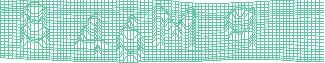4: (72, 12, 109, 58)
6: (114, 15, 147, 62)
8: (18, 1, 52, 50)
M: (151, 3, 199, 52)
q: (223, 5, 257, 51)
